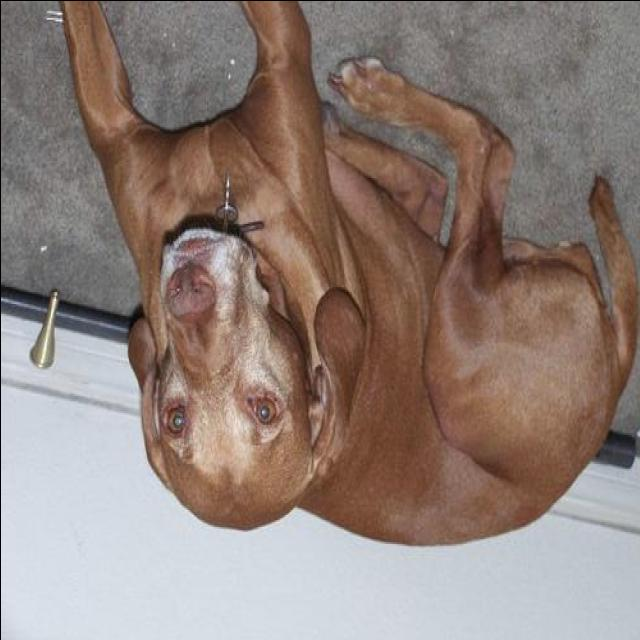vizsla: (62, 3, 636, 545)
